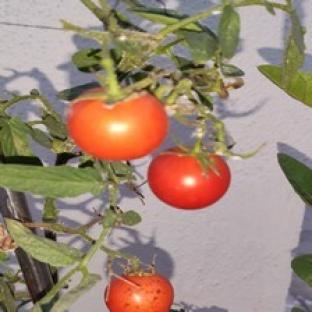Tomato: (67, 92, 168, 160), (148, 148, 231, 208), (105, 273, 174, 311)
